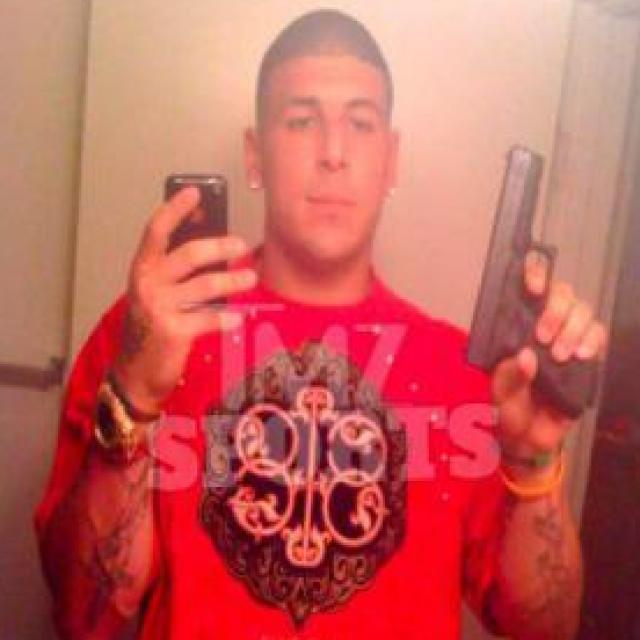pistol: (452, 134, 608, 429)
